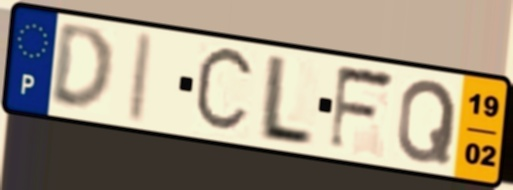C: (190, 43, 258, 138)
D: (47, 23, 116, 116)
F: (326, 62, 399, 155)
I: (122, 28, 157, 127)
L: (253, 52, 317, 150)
Q: (393, 77, 460, 165)
